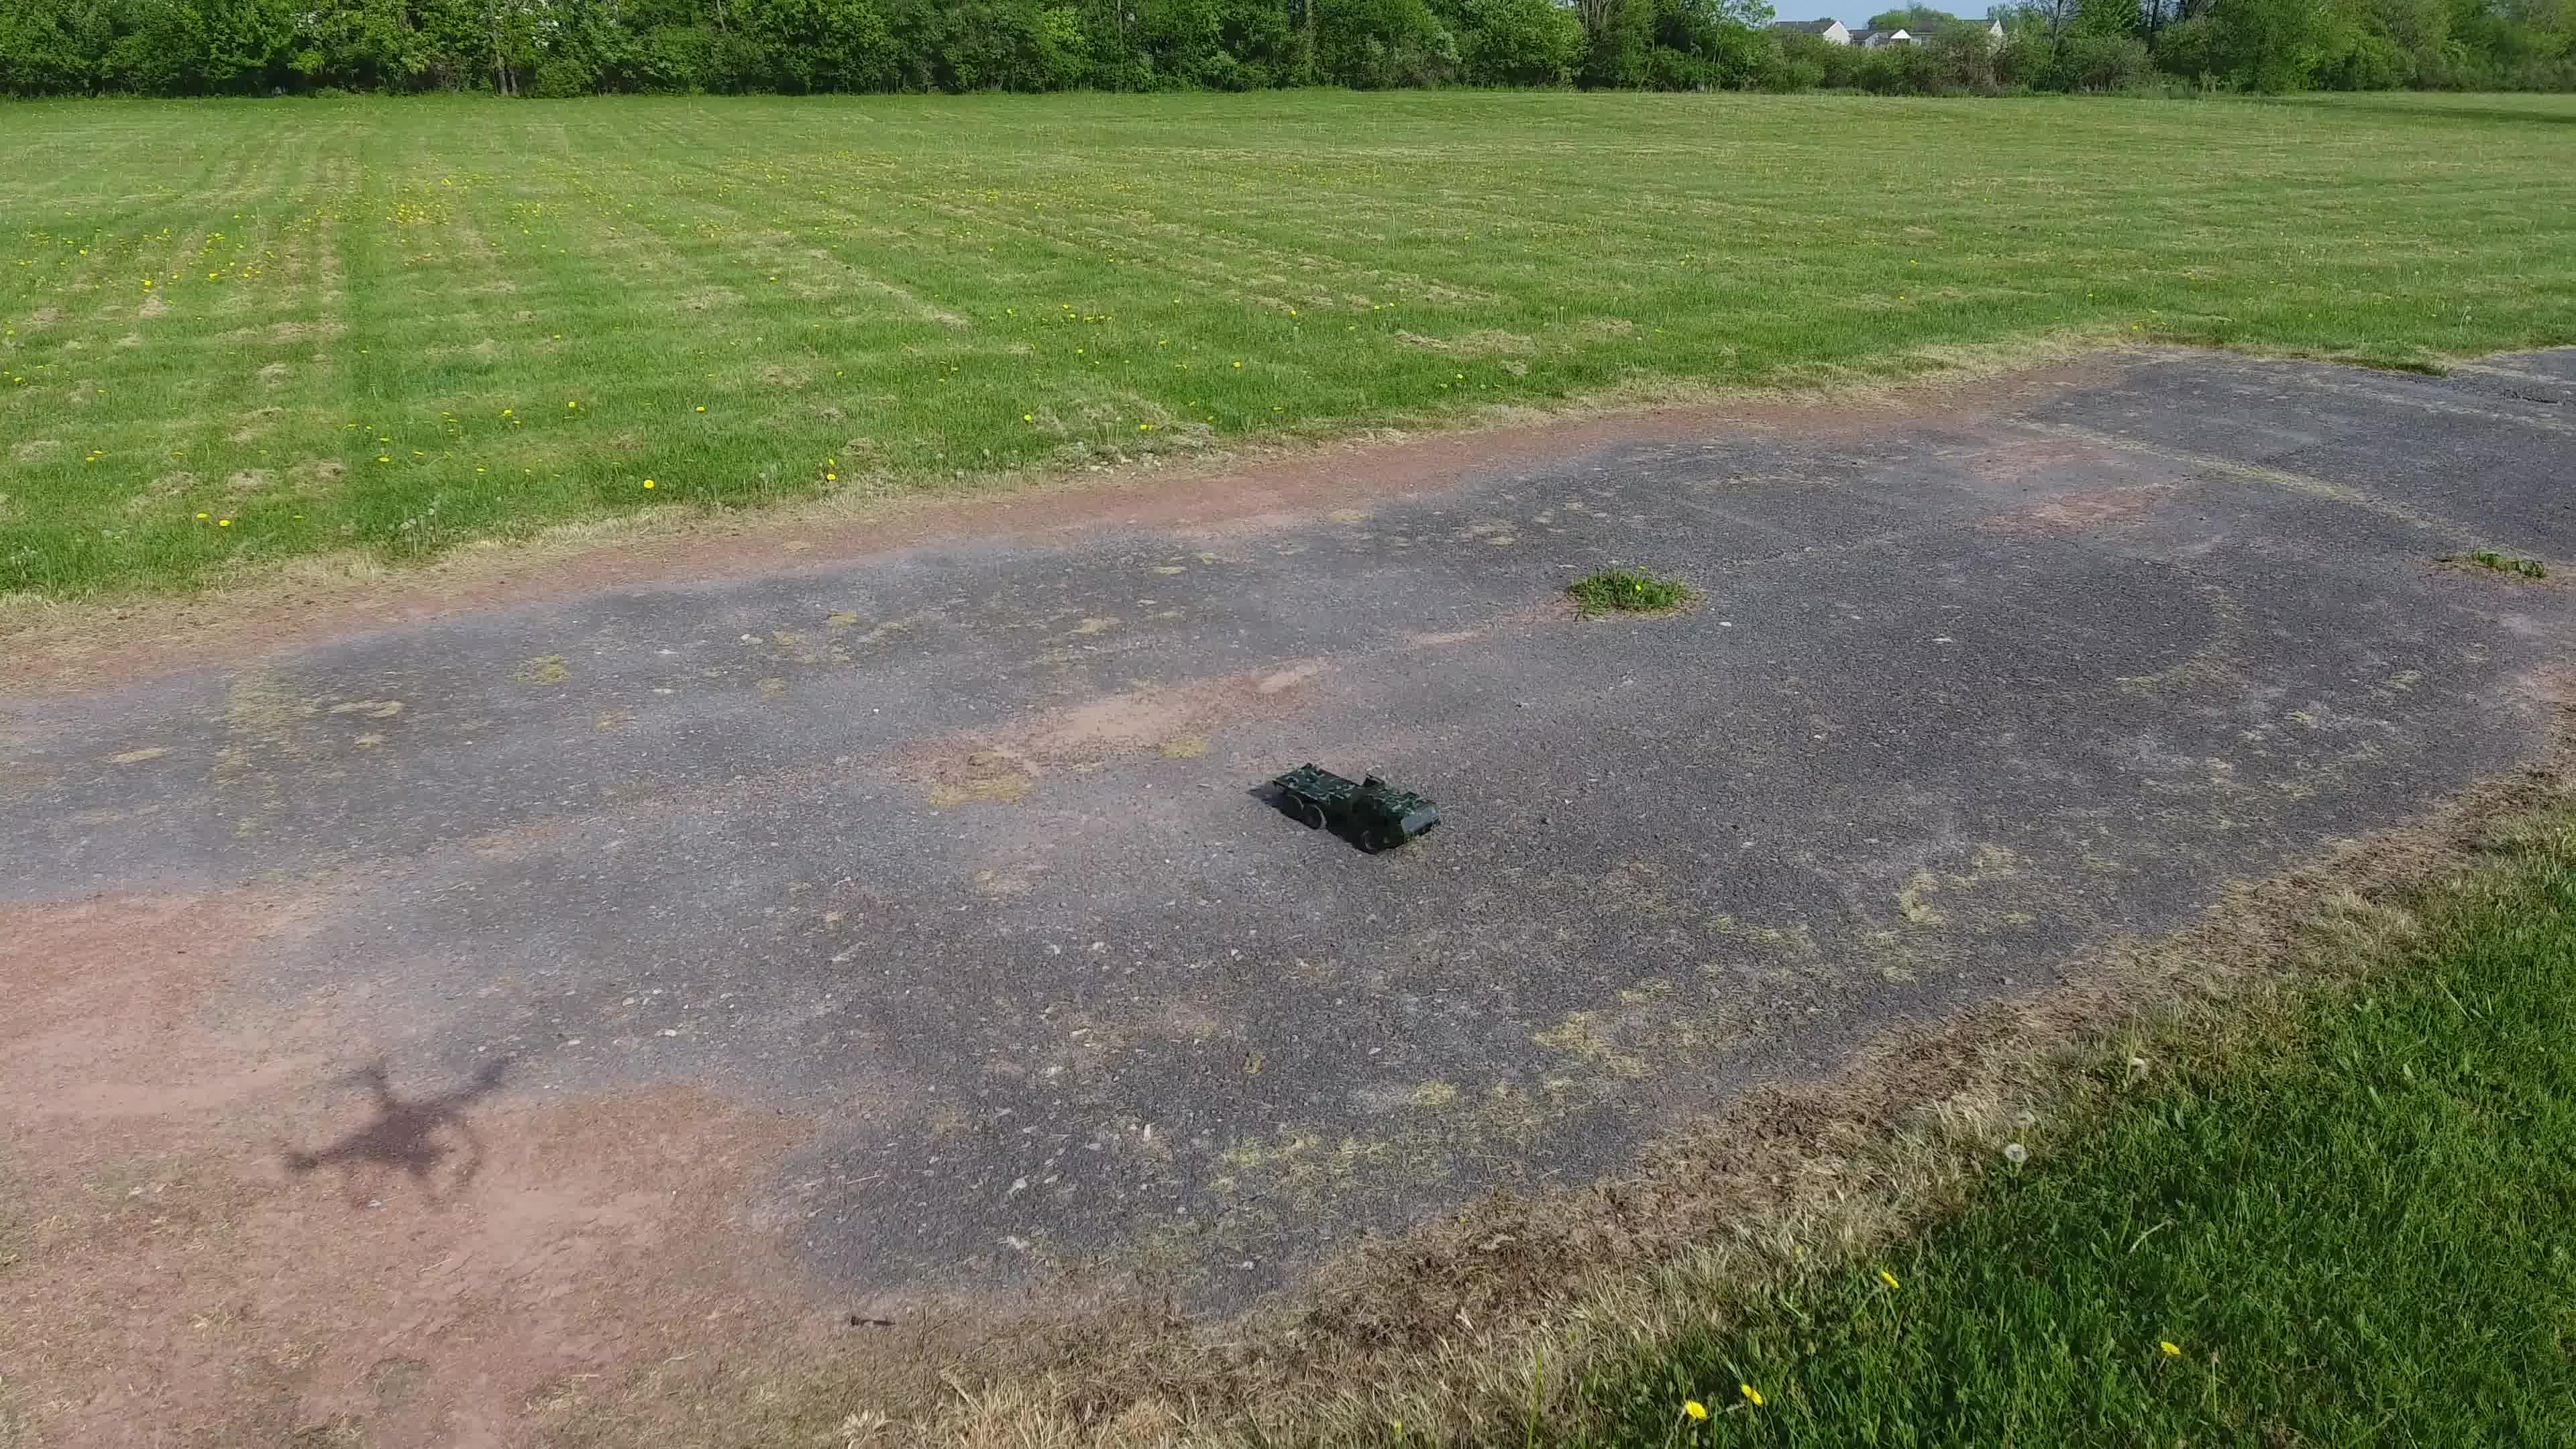transporter9_camo: (1265, 761, 1444, 853)
